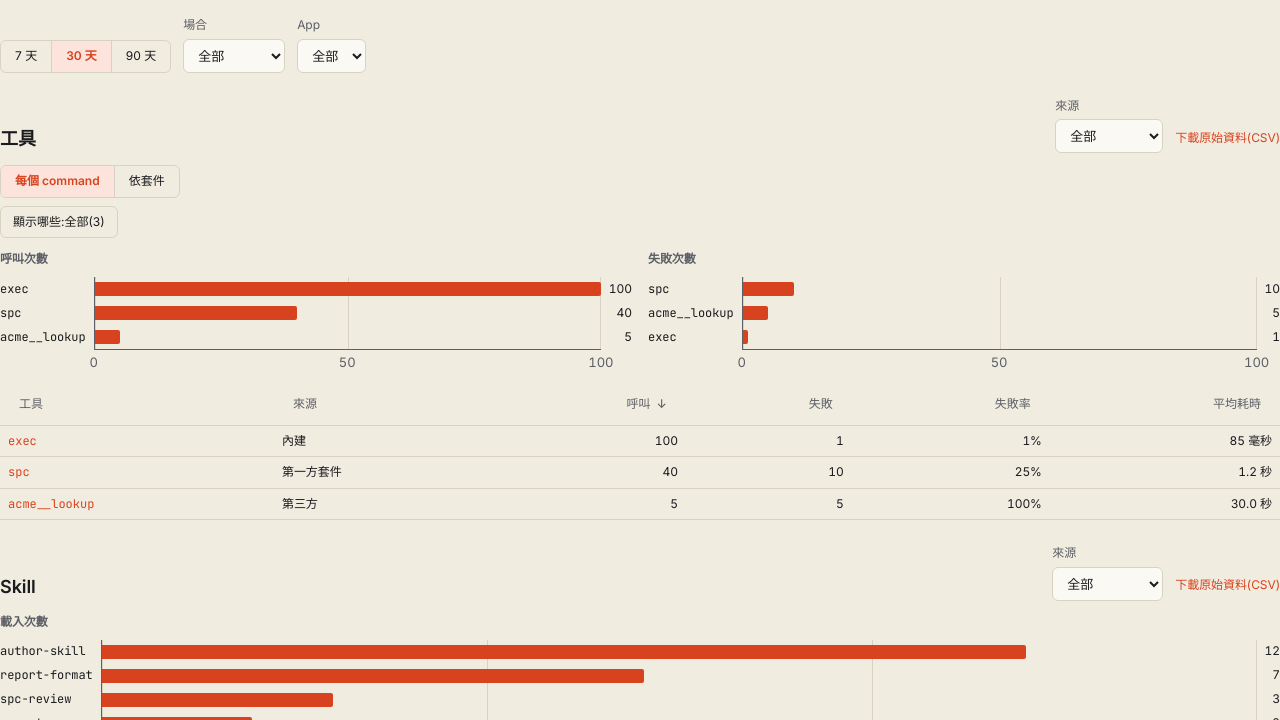
Test: an open breakdown follows what is shown (review r3) › closes when its row is no longer shown
Click the button "spc" at (19, 472), box [8,463,30,482]
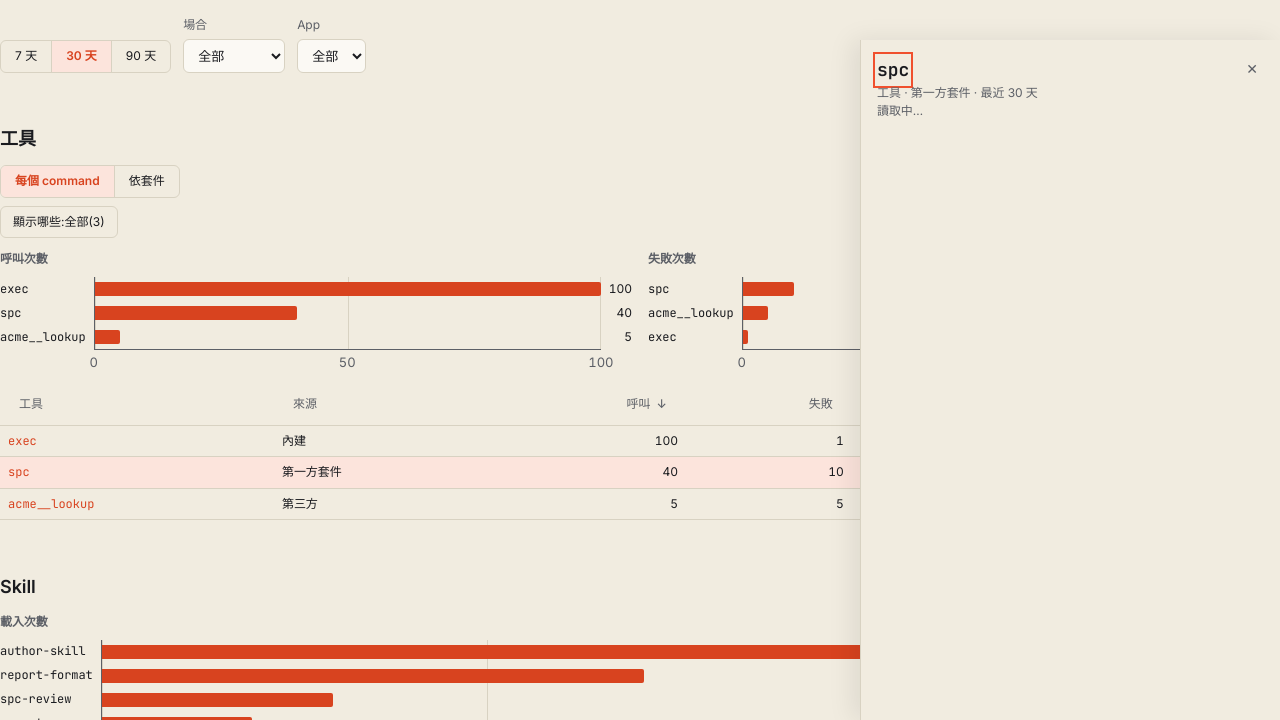
Expected: the element with test id "tool-usage-detail" is shown, [860,40,1279,719]
Click the button "顯示哪些:全部(3)" at (59, 222), box [0,206,118,238]
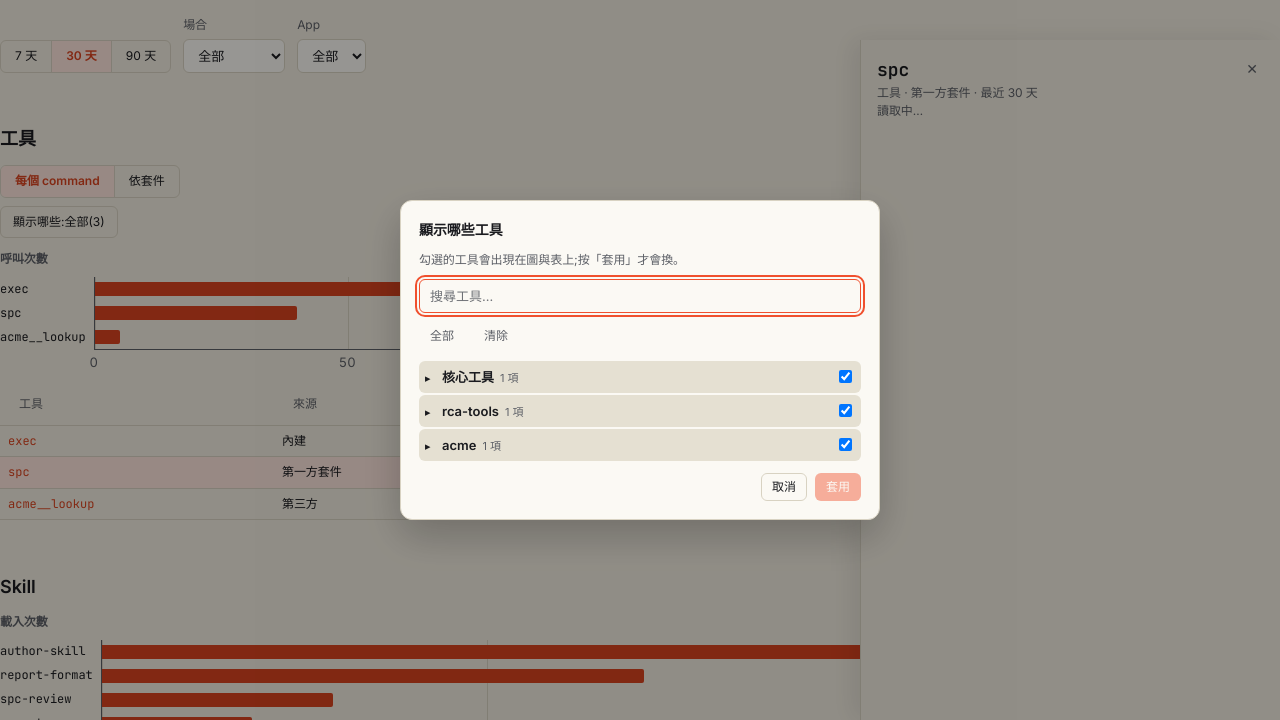
Click the checkbox named "rca-tools 全部顯示" at (846, 411), box [839,404,852,417]
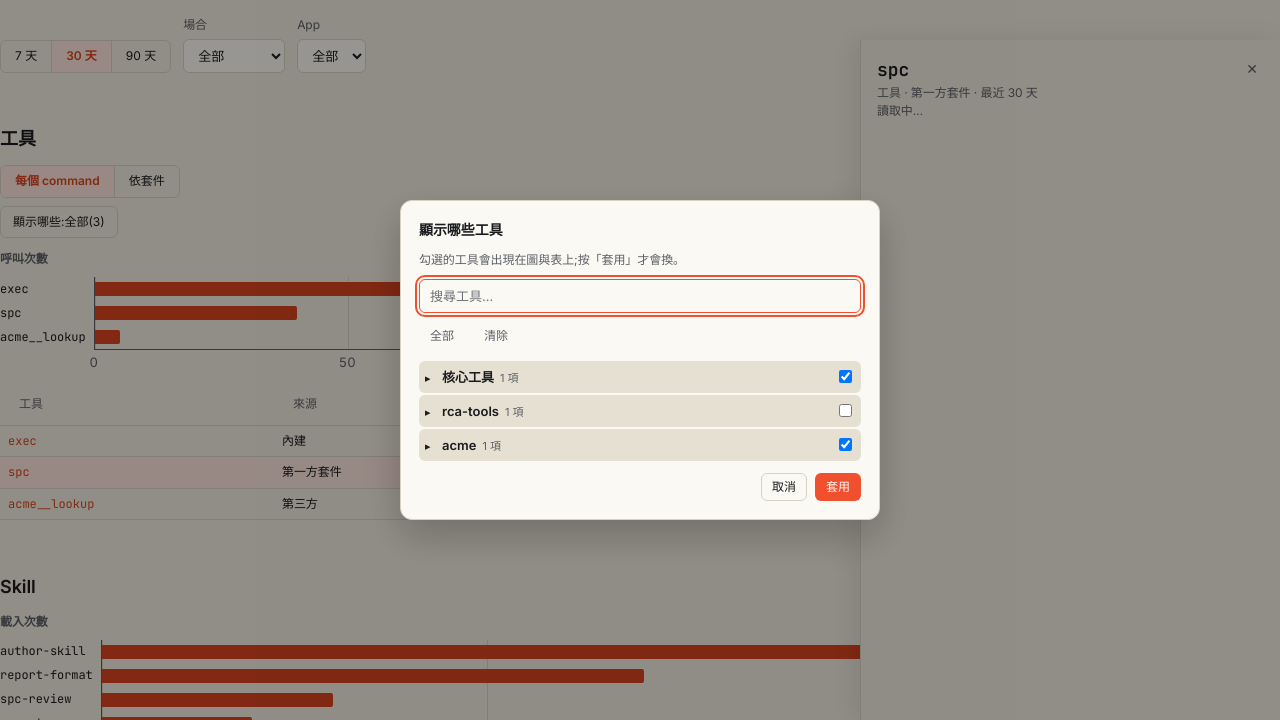
Click the button "套用" at (838, 487), box [815,473,861,501]
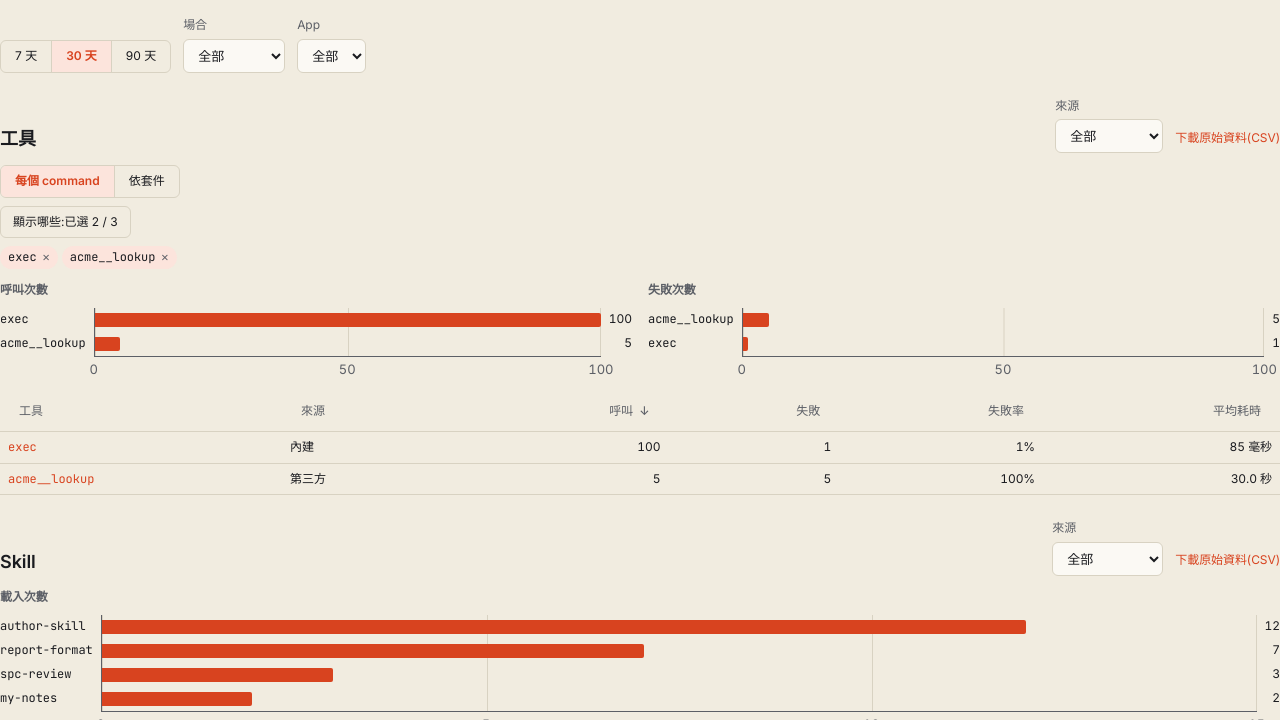
Expected: the element with test id "tool-usage-detail" is gone
